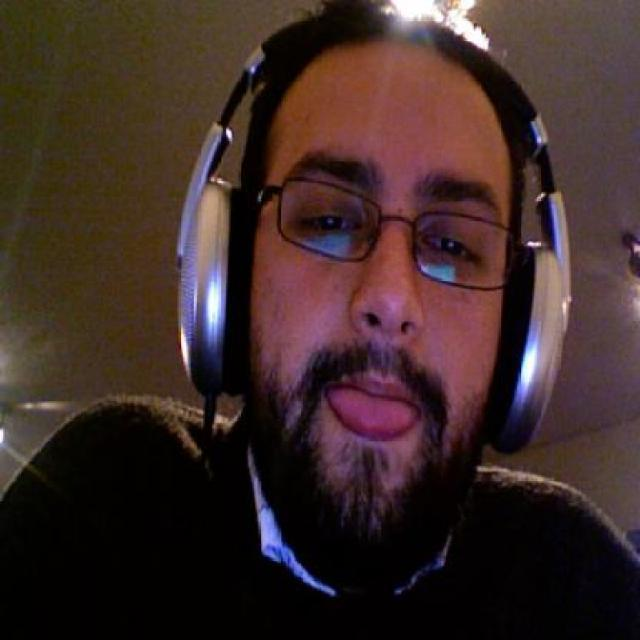earphone: (150, 48, 580, 415)
